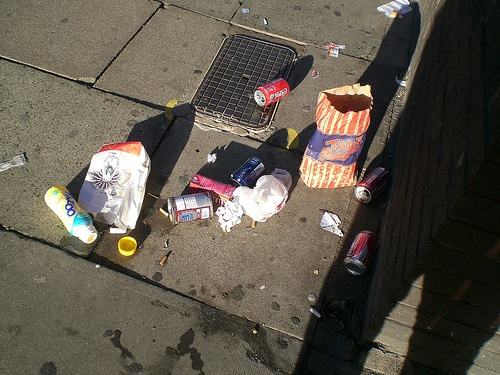rubble: (41, 78, 399, 265)
